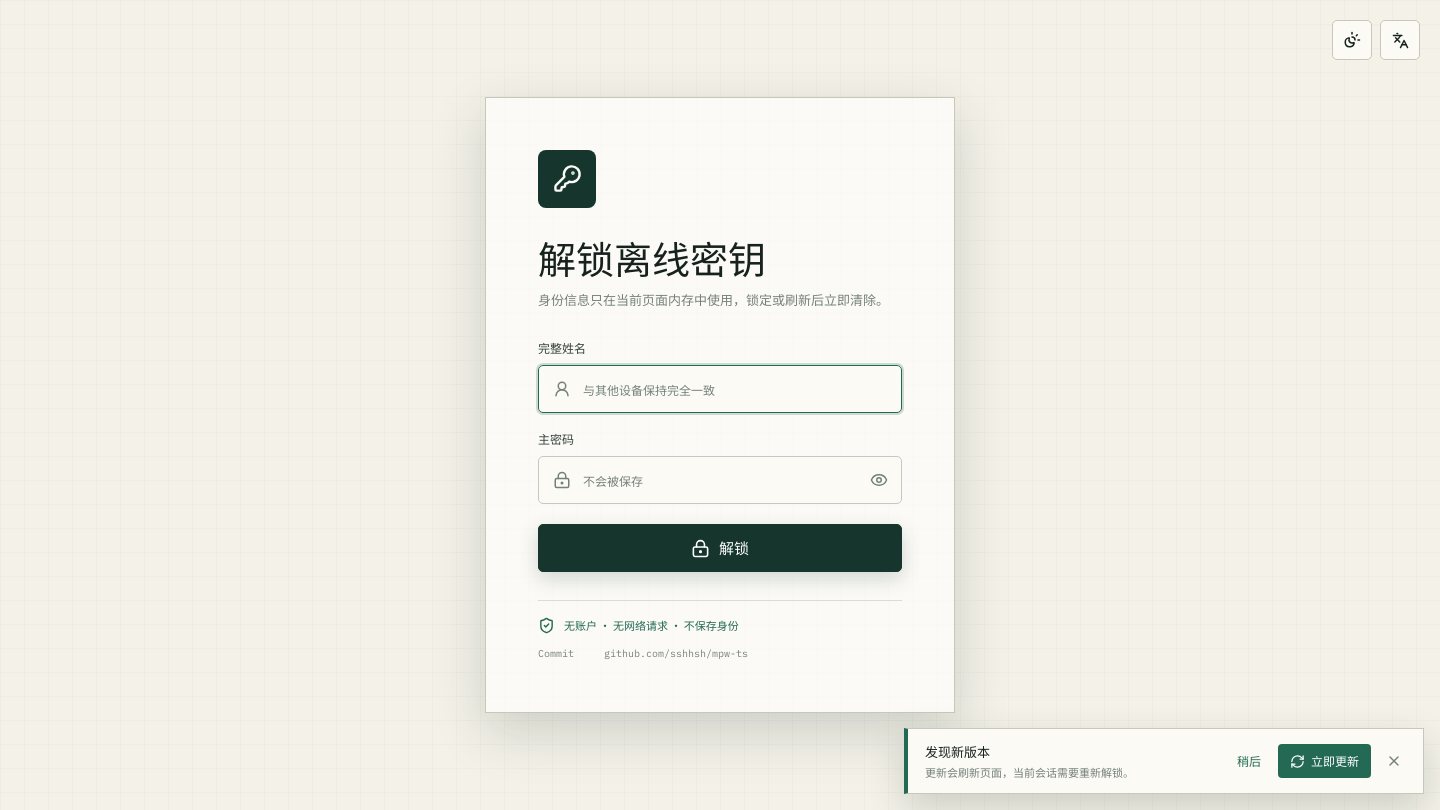
Test case: App session workflow › switches the interface language and persists the selection
Click the button named "当前为中文，切换为English" at [1400, 40], box [1380,20,1420,60]
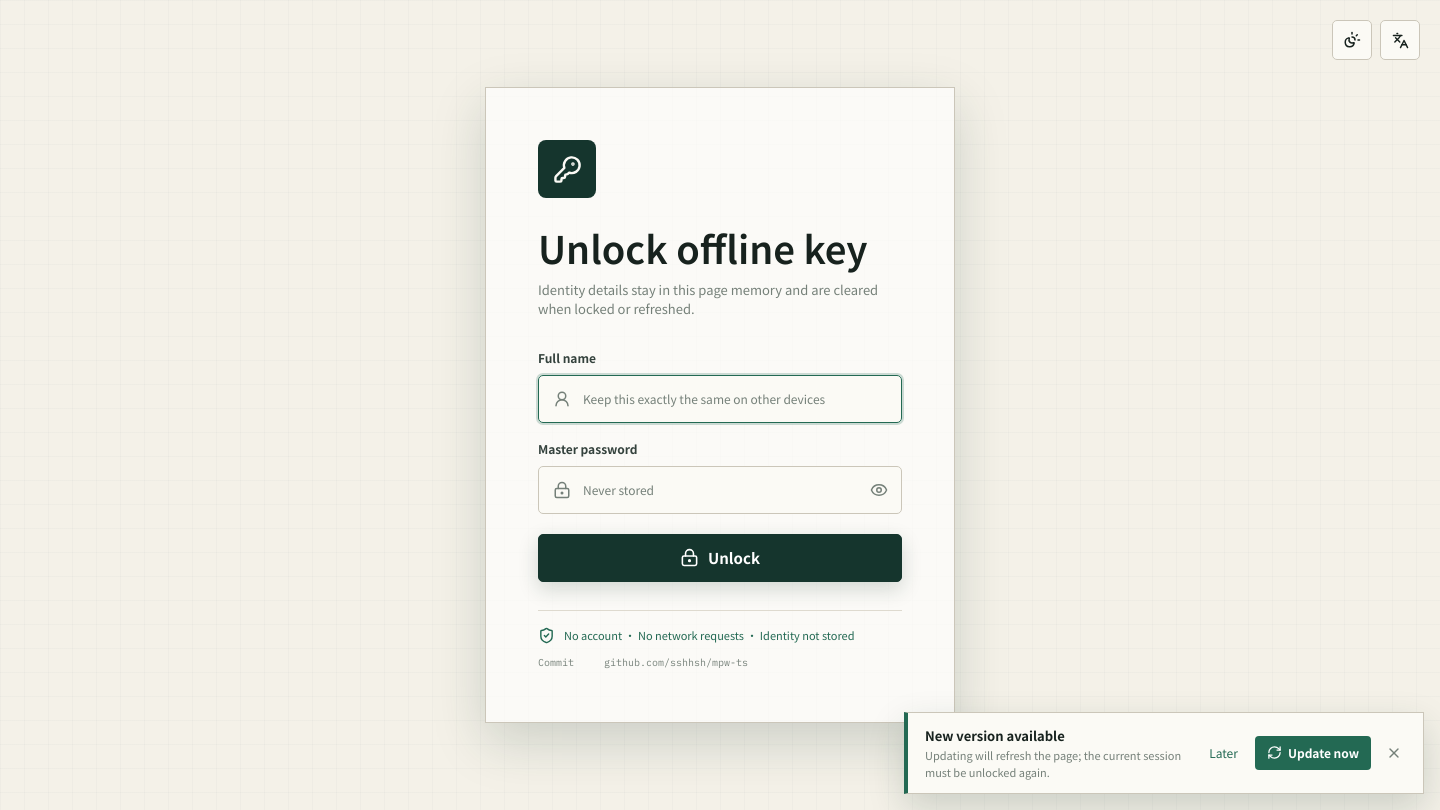
Expected: the field labelled "Full name" is shown, [581,376,901,422]
Expected: the heading "Unlock offline key" is shown, [538,226,902,270]
